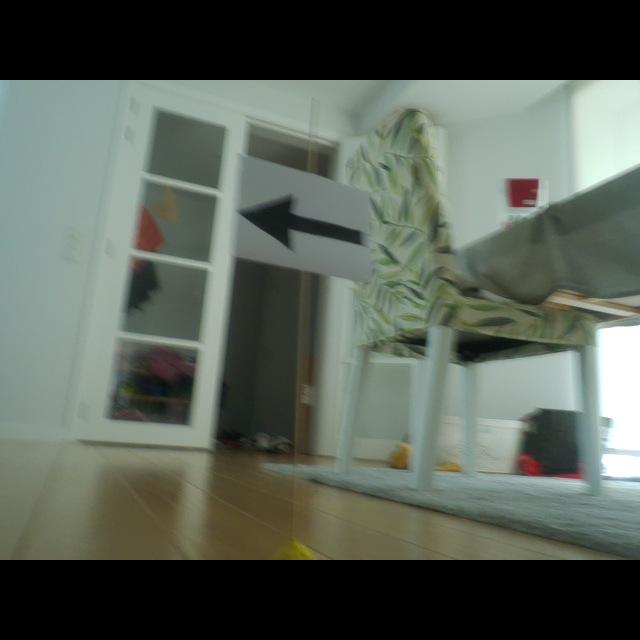balra_nyil: (241, 195, 363, 250)
